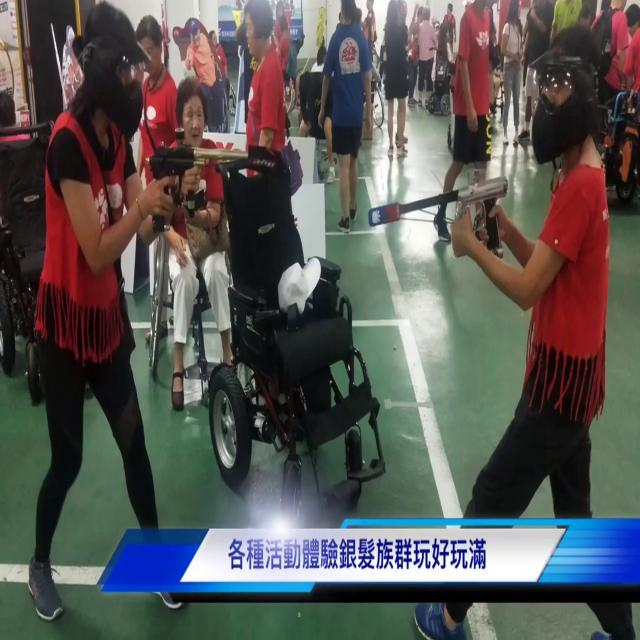wheelchairs: (202, 164, 418, 527), (148, 183, 288, 412)
